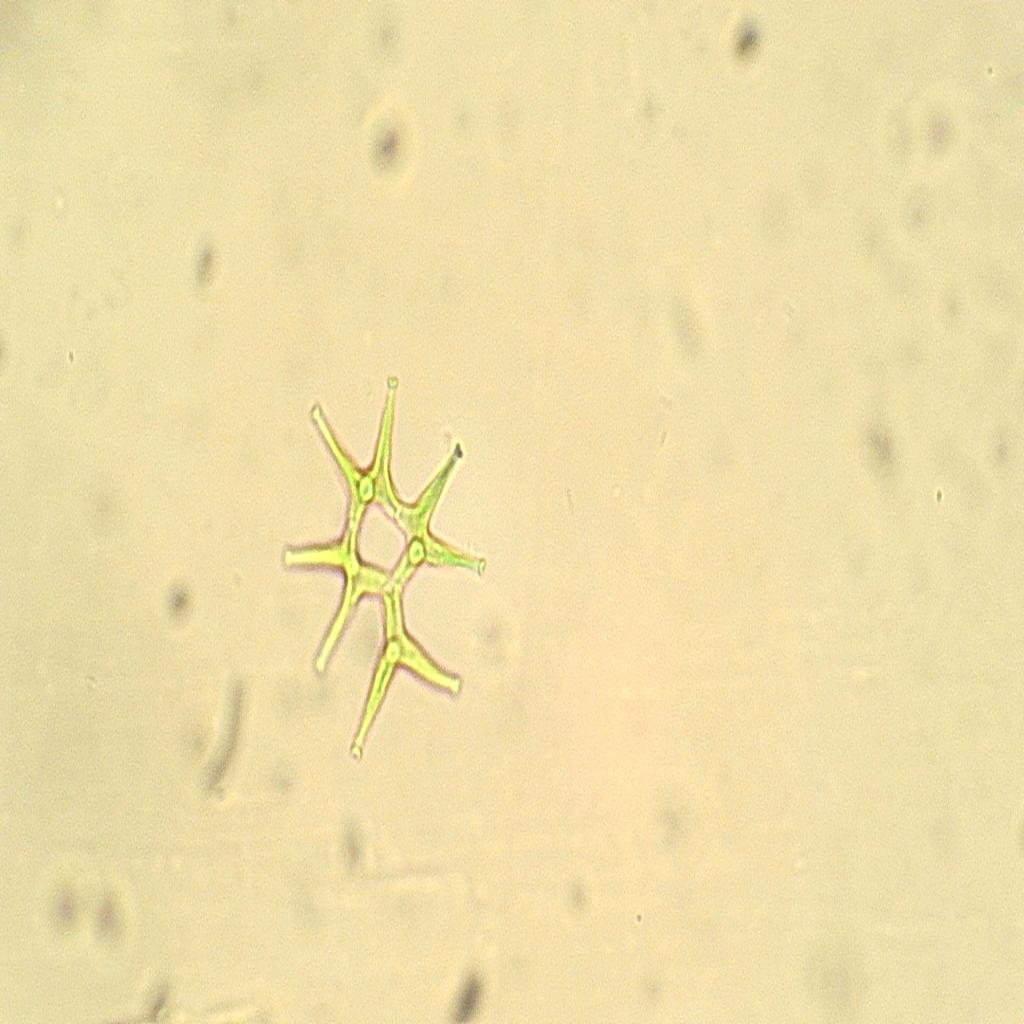Pediastrum_75FI: (267, 357, 504, 773)
